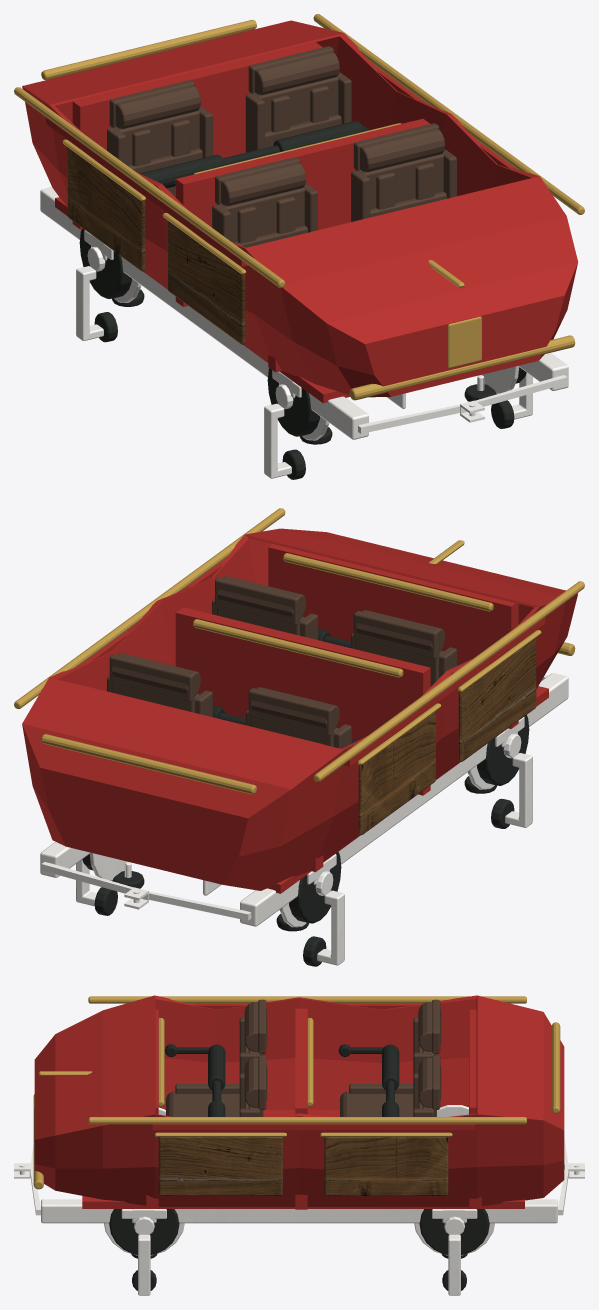
Rendered from car.glb.
The picture shows the model from 3 angles, top to bottom: view 1: azimuth 30°, elevation 25°; view 2: azimuth 150°, elevation 25°; view 3: azimuth 270°, elevation 25°; orthographic projection. The views are drawn at different scales.
Visible parts, largest first — view 1: CarBody_Tub, Seating_Cushions, CarBody_Trim, CarBody_TimberSide, Chassis_Frame, BogieFront_Treads, LapBar_Rear_Mesh, Mount_Assembly_Front, BogieRear_Treads, BogieFront_Metal, UpstopBracket_Left_BogieRear, UpstopBracket_Left_BogieFront (+1 smaller); view 2: CarBody_Tub, Seating_Cushions, CarBody_Trim, CarBody_TimberSide, Chassis_Frame, BogieRear_Treads, Mount_Assembly_Rear, BogieFront_Treads, BogieRear_Metal, UpstopBracket_Left_BogieRear, UpstopBracket_Left_BogieFront, BogieFront_Metal; view 3: CarBody_Tub, CarBody_TimberSide, Seating_Cushions, CarBody_Trim, Chassis_Frame, BogieFront_Treads, BogieRear_Treads, LapBar_Front_Mesh, LapBar_Rear_Mesh, BogieRear_Metal, BogieFront_Metal, UpstopBracket_Right_BogieFront (+3 smaller).
Boxes of the visible parts, x1,y1,x2,y2 form: CarBody_Tub: (22,20,577,403); Seating_Cushions: (107,46,456,247); CarBody_Trim: (14,14,584,400); CarBody_TimberSide: (67,147,245,344); Chassis_Frame: (40,187,568,439); BogieFront_Treads: (267,367,526,479); LapBar_Rear_Mesh: (140,120,369,188); Mount_Assembly_Front: (358,375,567,433); BogieRear_Treads: (79,228,144,342); BogieFront_Metal: (272,366,519,440); UpstopBracket_Left_BogieRear: (76,266,103,340); UpstopBracket_Left_BogieFront: (264,403,291,478); CarBody_Tub: (22,528,577,893); Seating_Cushions: (107,576,456,748); CarBody_Trim: (14,508,584,794); CarBody_TimberSide: (358,638,536,835); Chassis_Frame: (40,673,568,926); BogieRear_Treads: (82,852,341,966); Mount_Assembly_Rear: (41,862,251,920); BogieFront_Treads: (464,715,529,828); BogieRear_Metal: (90,853,336,927); UpstopBracket_Left_BogieRear: (317,890,344,965); UpstopBracket_Left_BogieFront: (505,753,532,827); BogieFront_Metal: (467,717,524,789); CarBody_Tub: (34,995,564,1209); CarBody_TimberSide: (158,1137,448,1195); Seating_Cushions: (166,999,441,1116); CarBody_Trim: (33,996,560,1189); Chassis_Frame: (41,1199,557,1223); BogieFront_Treads: (109,1209,179,1290); BogieRear_Treads: (419,1209,489,1290); LapBar_Front_Mesh: (165,1044,225,1116); LapBar_Rear_Mesh: (338,1044,399,1116); BogieRear_Metal: (414,1105,494,1255); BogieFront_Metal: (104,1107,184,1255); UpstopBracket_Right_BogieFront: (138,1234,150,1295).
Bounding box in the file's own units: 1.42 × 1.1 × 2.76.
6 materials, 2 textured.
